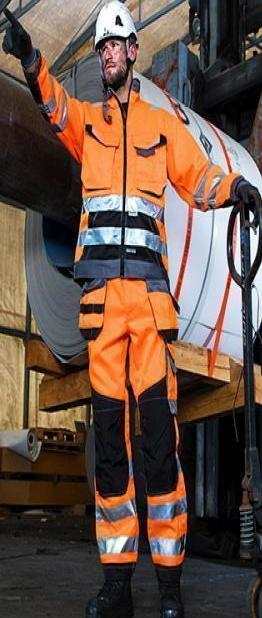boots: (85, 557, 134, 618), (152, 562, 184, 618)
gloves: (231, 175, 260, 213), (0, 271, 18, 328)
hard-hat: (94, 0, 138, 50)
ppe-suit: (0, 66, 80, 577)
